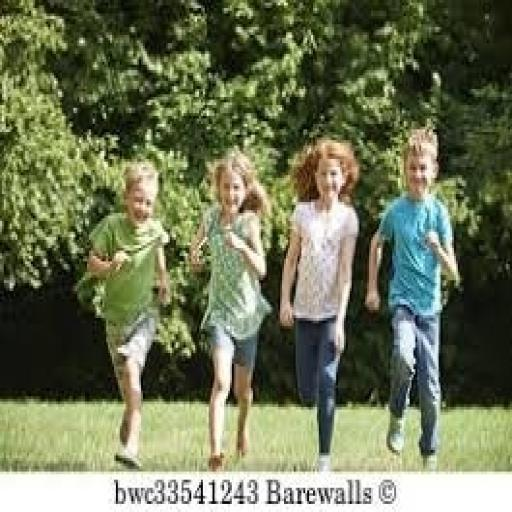running: (363, 124, 464, 472), (79, 156, 174, 472), (276, 134, 364, 472), (188, 148, 274, 472)
